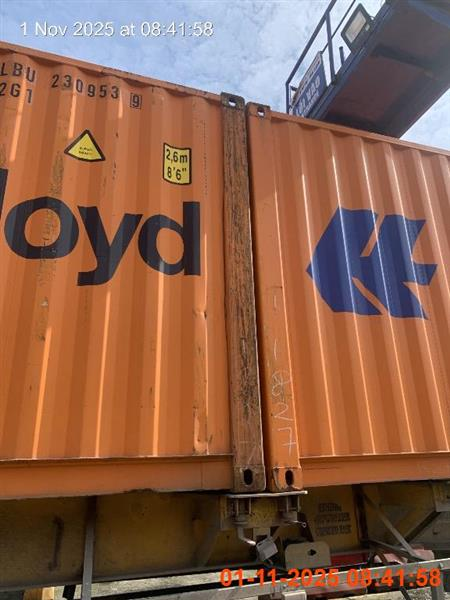broken: (1, 42, 448, 593)
